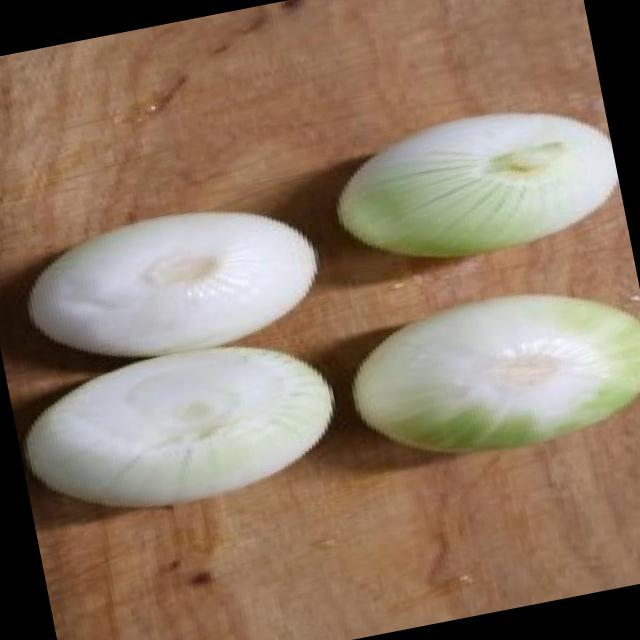Onion: (25, 349, 338, 514), (353, 292, 640, 458), (25, 207, 316, 355), (344, 114, 617, 255)
